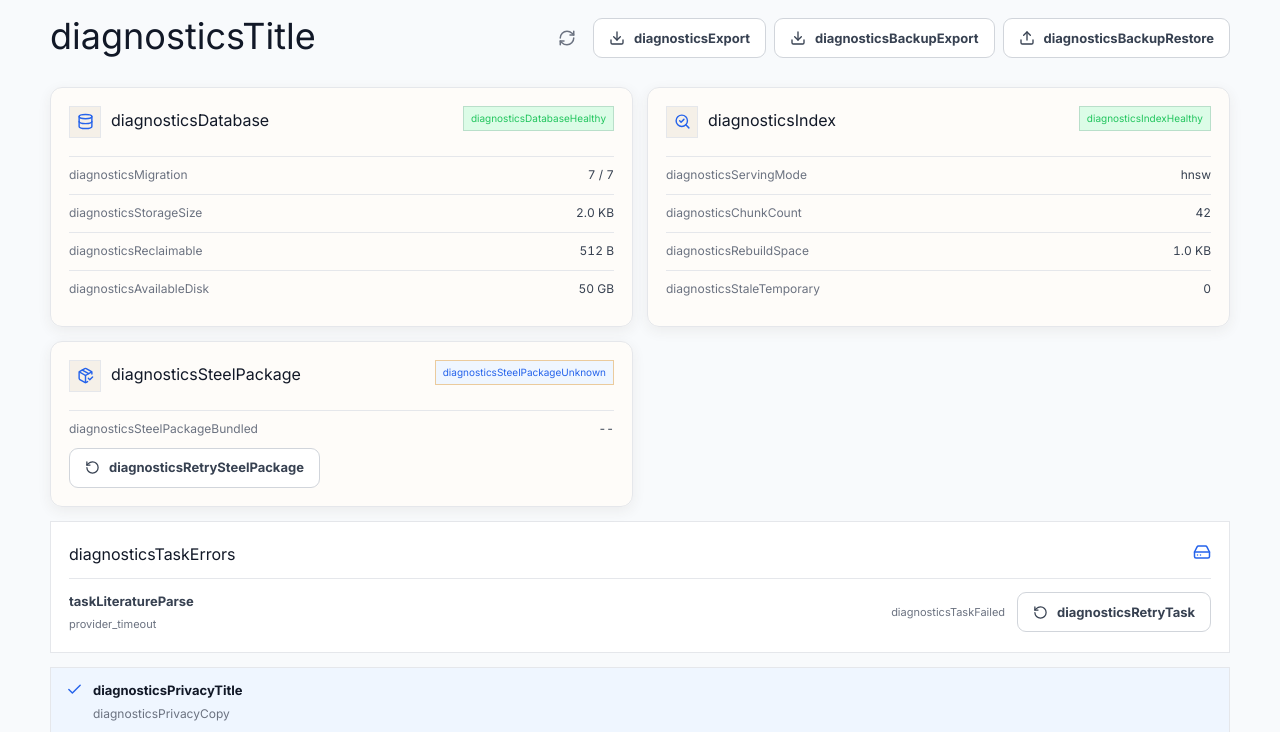
Test: DiagnosticsPage › exports diagnostic metadata without including provider secrets
Click the button "diagnosticsExport" at (680, 38), box [593,18,766,58]
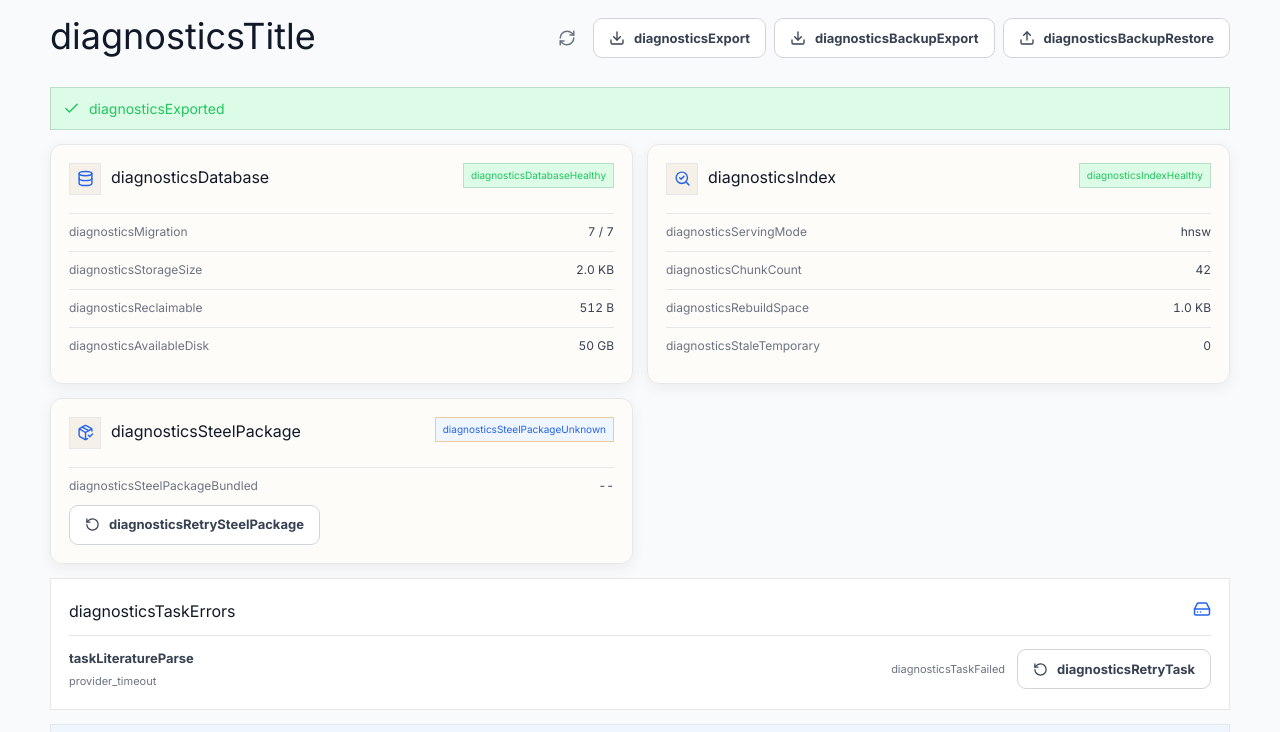
Result: the text "diagnosticsExported" is shown at [89,98,224,119]
